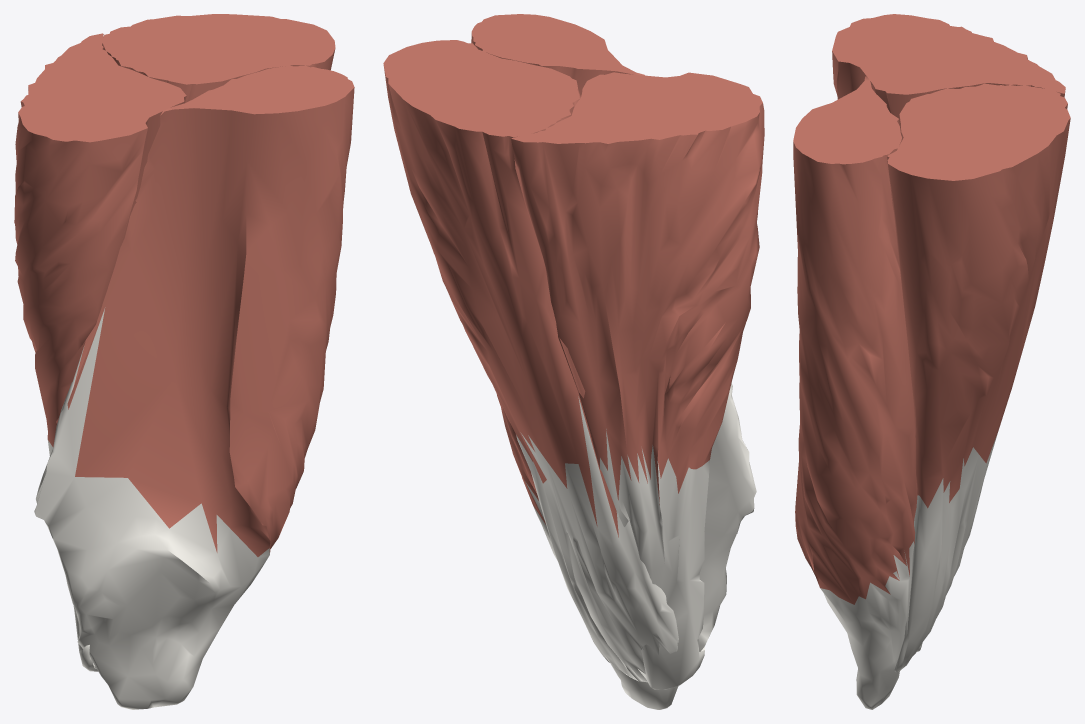
File: triceps-brachial.glb
The picture shows the model from 3 angles, left to right: view 1: azimuth 30°, elevation 25°; view 2: azimuth 150°, elevation 25°; view 3: azimuth 270°, elevation 25°; orthographic projection. The views are drawn at different scales.
Visible parts, largest first — view 1: triceps-brachial; view 2: triceps-brachial; view 3: triceps-brachial.
Part boxes in pixels (<box>): triceps-brachial: <box>14,14,354,709</box>; triceps-brachial: <box>383,14,764,709</box>; triceps-brachial: <box>793,14,1070,709</box>.
Size of the model in its own units: 0.0691 by 0.1198 by 0.0479.
